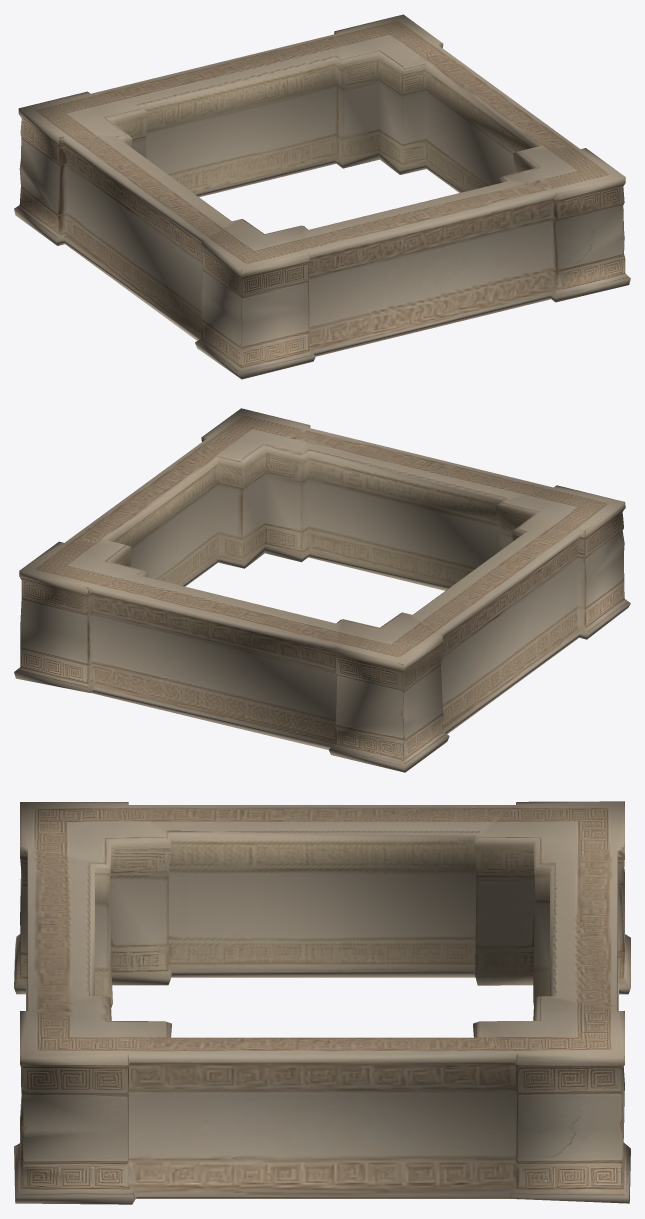
File: tripo_convert_e54d7a96-1f6b-4712-919c-fd52295f9e93.fbx
The picture shows the model from 3 angles, top to bottom: view 1: azimuth 30°, elevation 25°; view 2: azimuth 150°, elevation 25°; view 3: azimuth 270°, elevation 25°; orthographic projection. The views are drawn at different scales.
Visible parts, largest first — view 1: tripo_node_e54d7a96; view 2: tripo_node_e54d7a96; view 3: tripo_node_e54d7a96.
Boxes of the visible parts, left/top/right/bottom form: tripo_node_e54d7a96: left=14, top=14, right=630, bottom=379; tripo_node_e54d7a96: left=14, top=408, right=630, bottom=772; tripo_node_e54d7a96: left=14, top=801, right=630, bottom=1204.
Bounding box in the file's own units: 99.8 × 99.8 × 25.98.
